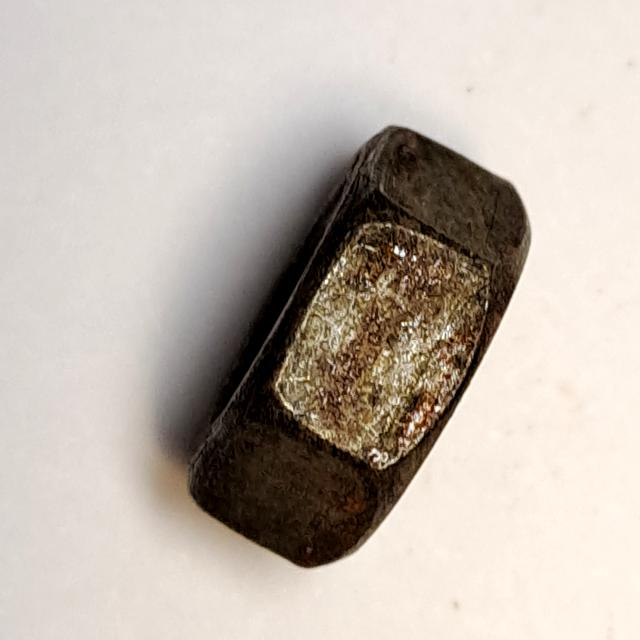Side_Rust: (169, 115, 546, 589)
